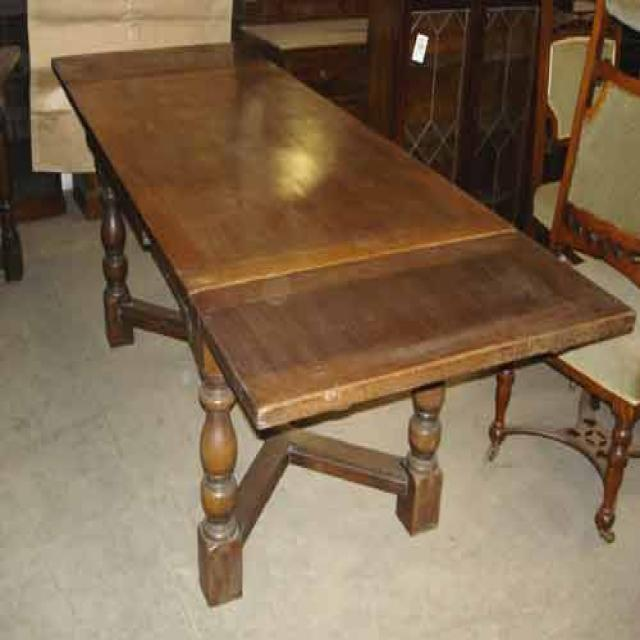table: (50, 36, 640, 614)
